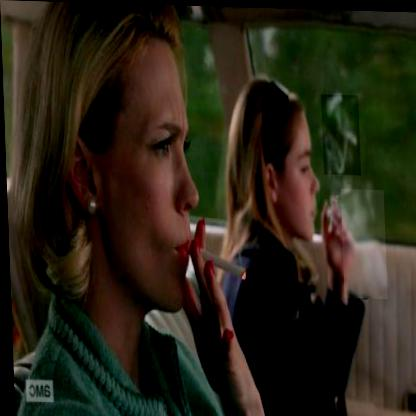smoke: (339, 187, 385, 297), (320, 92, 360, 173)
